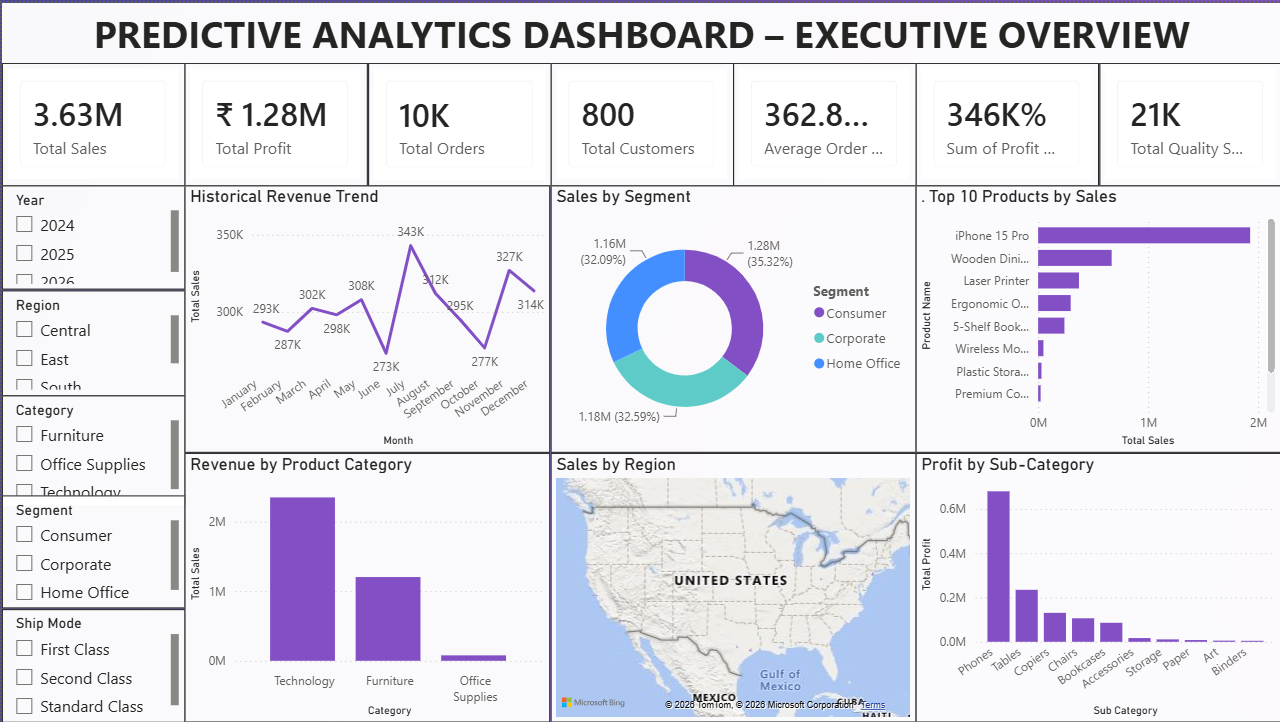

This screenshot's page, from the dashboard's own definition file:
{"tool":"powerbi","page":{"name":"EXECUTIVE OVERVIEW","canvas":[1280,720],"ordinal":0},"visuals":[{"type":"textbox","box":[0,0,1280,60],"z":0},{"type":"cardVisual","fields":{"Data":["Sum(Data.Profit Margin)"]},"box":[914.3,60,182.9,122.9],"z":1000},{"type":"cardVisual","fields":{"Data":["Data.Average Order Value"]},"box":[731.4,60,182.9,122.9],"z":2000},{"type":"cardVisual","fields":{"Data":["Data.Total Customers"]},"box":[548.6,60,182.9,122.9],"z":3000},{"type":"cardVisual","fields":{"Data":["Data.Total Orders"]},"box":[365.6,59.9,183.4,123.5],"z":4000},{"type":"cardVisual","fields":{"Data":["Data.Total Profit"]},"box":[182.9,60,182.9,122.9],"z":5000},{"type":"cardVisual","fields":{"Data":["Data.Total Sales"]},"box":[0,60,182.9,122.9],"z":6000},{"type":"lineChart","title":"Historical Revenue Trend","fields":{"Y":["Data.Total Sales"],"Category":["Data.Order Date.Variation.Date Hierarchy.Month"]},"box":[182.9,182.9,365.7,267.1],"z":7000},{"type":"clusteredColumnChart","title":"Revenue by Product Category","fields":{"Category":["Data.Category"],"Y":["Data.Total Sales"]},"box":[182.9,450,365.7,270],"z":8000},{"type":"donutChart","title":"Sales by Segment","fields":{"Category":["Data.Segment"],"Y":["Data.Total Sales"]},"box":[548.6,182.9,365.7,267.1],"z":9000},{"type":"filledMap","title":"Sales by Region","fields":{"Category":["Data.City","Data.Country","Data.State","Data.Region"]},"box":[548.6,450,365.7,270],"z":10000},{"type":"cardVisual","fields":{"Data":["Data.Total Quality Sold"]},"box":[1097.1,60,182.9,122.9],"z":11000},{"type":"barChart","title":". Top 10 Products by Sales","fields":{"Category":["Data.Product Name"],"Y":["Data.Total Sales"]},"box":[914.3,182.9,365.7,267.1],"z":12000},{"type":"columnChart","title":"Profit by Sub-Category","fields":{"Category":["Data.Sub Category"],"Y":["Data.Total Profit"]},"box":[914.3,450,365.7,270],"z":13000},{"type":"slicer","fields":{"Values":["Calendar.Year"]},"box":[0,182.9,182.9,104.3],"z":14000},{"type":"slicer","fields":{"Values":["Data.Ship Mode"]},"box":[0,605.7,182.9,114.3],"z":15000},{"type":"slicer","fields":{"Values":["Data.Region"]},"box":[0,287.1,182.9,105.7],"z":16000},{"type":"slicer","fields":{"Values":["Data.Category"]},"box":[0,392.9,182.9,111.4],"z":17000},{"type":"slicer","fields":{"Values":["Data.Segment"]},"box":[0,492.9,182.9,112.9],"z":18000}]}

Visuals, with their boxes in screenshot pixels (x1, y1, x2, y2), scaled from the page's 1280x720 canvas onto the 1280x722 screenshot:
textbox: bbox(0, 0, 1279, 60)
cardVisual - Sum(Data.Profit Margin): bbox(914, 60, 1097, 183)
cardVisual - Data.Average Order Value: bbox(731, 60, 914, 183)
cardVisual - Data.Total Customers: bbox(549, 60, 732, 183)
cardVisual - Data.Total Orders: bbox(366, 60, 549, 184)
cardVisual - Data.Total Profit: bbox(183, 60, 366, 183)
cardVisual - Data.Total Sales: bbox(0, 60, 183, 183)
"Historical Revenue Trend" lineChart: bbox(183, 183, 549, 451)
"Revenue by Product Category" clusteredColumnChart: bbox(183, 451, 549, 721)
"Sales by Segment" donutChart: bbox(549, 183, 914, 451)
"Sales by Region" filledMap: bbox(549, 451, 914, 721)
cardVisual - Data.Total Quality Sold: bbox(1097, 60, 1279, 183)
". Top 10 Products by Sales" barChart: bbox(914, 183, 1279, 451)
"Profit by Sub-Category" columnChart: bbox(914, 451, 1279, 721)
slicer - Calendar.Year: bbox(0, 183, 183, 288)
slicer - Data.Ship Mode: bbox(0, 607, 183, 721)
slicer - Data.Region: bbox(0, 288, 183, 394)
slicer - Data.Category: bbox(0, 394, 183, 506)
slicer - Data.Segment: bbox(0, 494, 183, 607)
